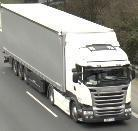Truck: (1, 4, 134, 124)
